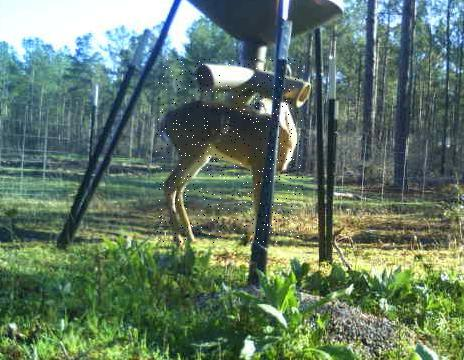Deer: (155, 60, 302, 244)
